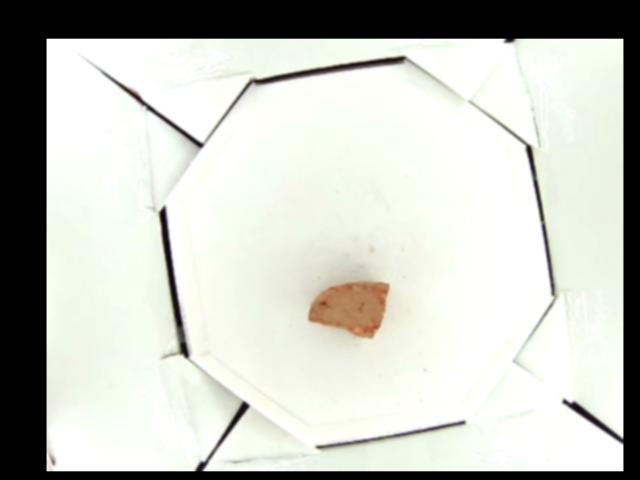Brisk: (307, 281, 389, 338)
